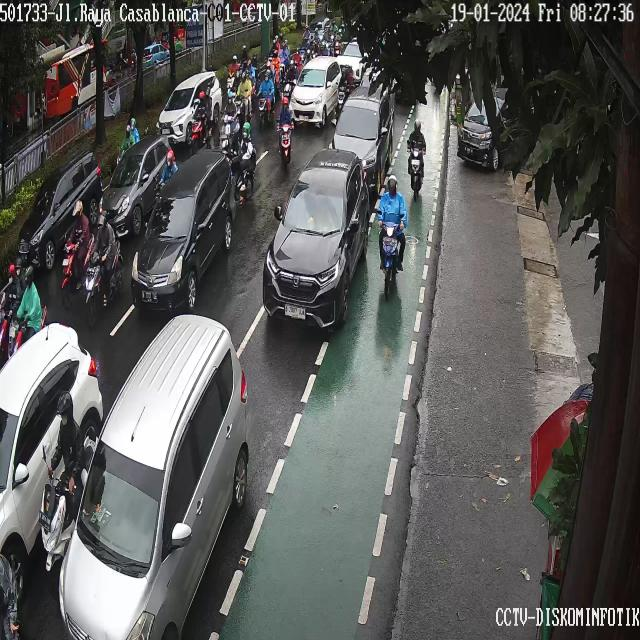Payung: (525, 376, 591, 518)
